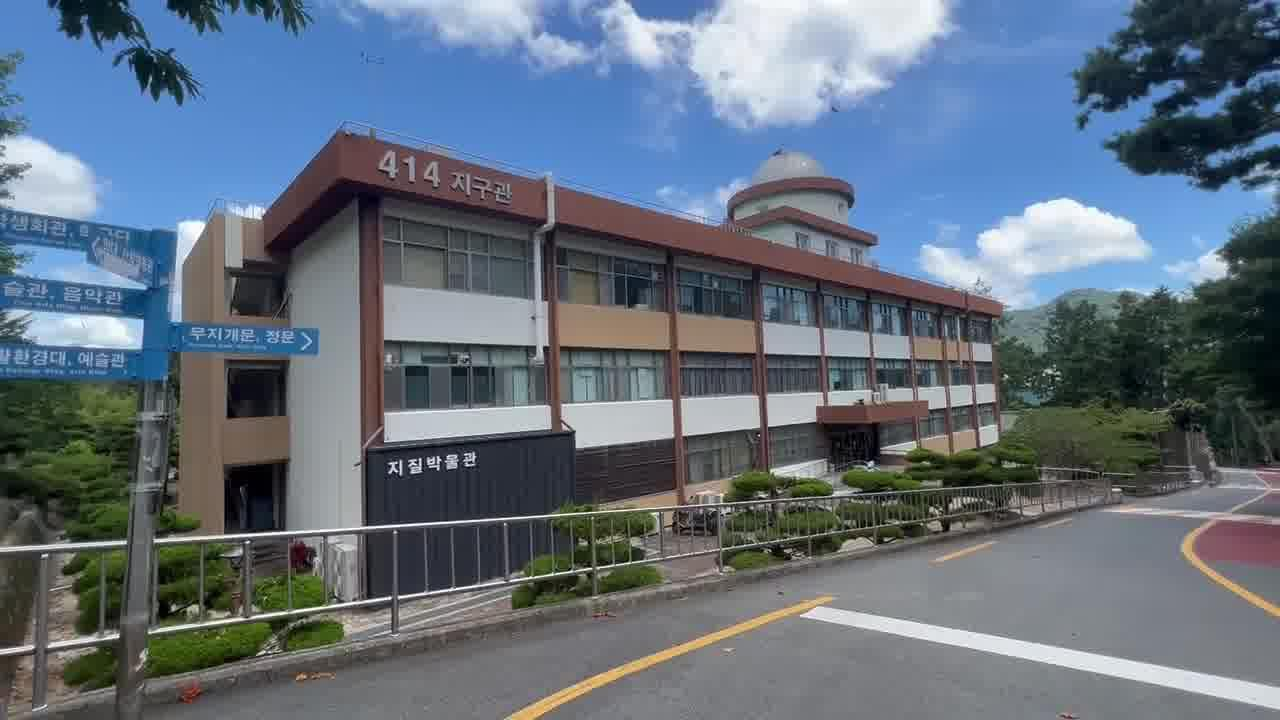building: (189, 143, 1003, 497)
